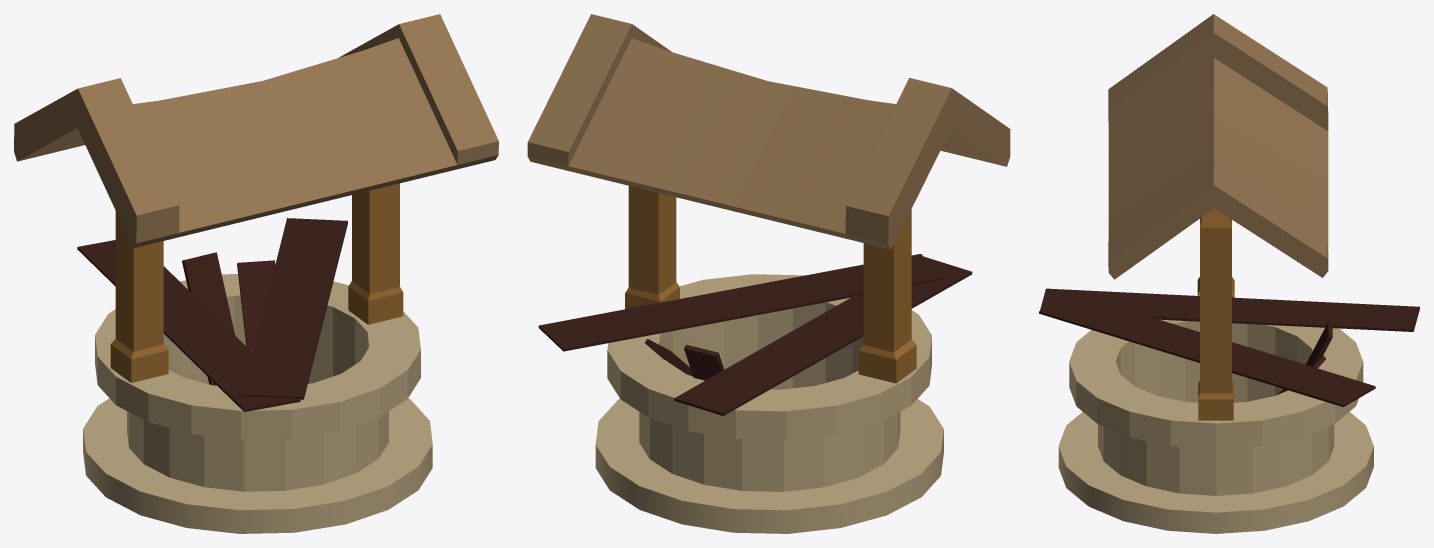
File: well.fbx
The picture shows the model from 3 angles, left to right: view 1: azimuth 30°, elevation 25°; view 2: azimuth 150°, elevation 25°; view 3: azimuth 270°, elevation 25°; orthographic projection. The views are drawn at different scales.
Visible parts, largest first — view 1: Line005, Cylinder001, Box006, Box004, Box001, Box002, Box003, Box005; view 2: Line005, Cylinder001, Box006, Box004, Box001, Box002, Box003; view 3: Cylinder001, Line005, Box006, Box004, Box002, Box003.
Boxes of the visible parts, <box> form: Line005: <box>14,14,498,248</box>; Cylinder001: <box>83,274,432,533</box>; Box006: <box>243,218,347,399</box>; Box004: <box>77,240,300,411</box>; Box001: <box>110,211,168,382</box>; Box002: <box>348,183,403,324</box>; Box003: <box>182,252,235,385</box>; Box005: <box>237,260,275,352</box>; Line005: <box>527,14,1010,249</box>; Cylinder001: <box>595,274,943,533</box>; Box006: <box>538,254,945,351</box>; Box004: <box>674,256,972,415</box>; Box001: <box>858,209,916,383</box>; Box002: <box>625,186,679,309</box>; Box003: <box>684,344,724,380</box>; Cylinder001: <box>1058,319,1373,533</box>; Line005: <box>1108,14,1328,279</box>; Box006: <box>1039,292,1375,407</box>; Box004: <box>1040,288,1419,331</box>; Box002: <box>1198,208,1233,420</box>; Box003: <box>1306,322,1332,365</box>.
Size of the model in its own units: 116 by 127 by 118.
